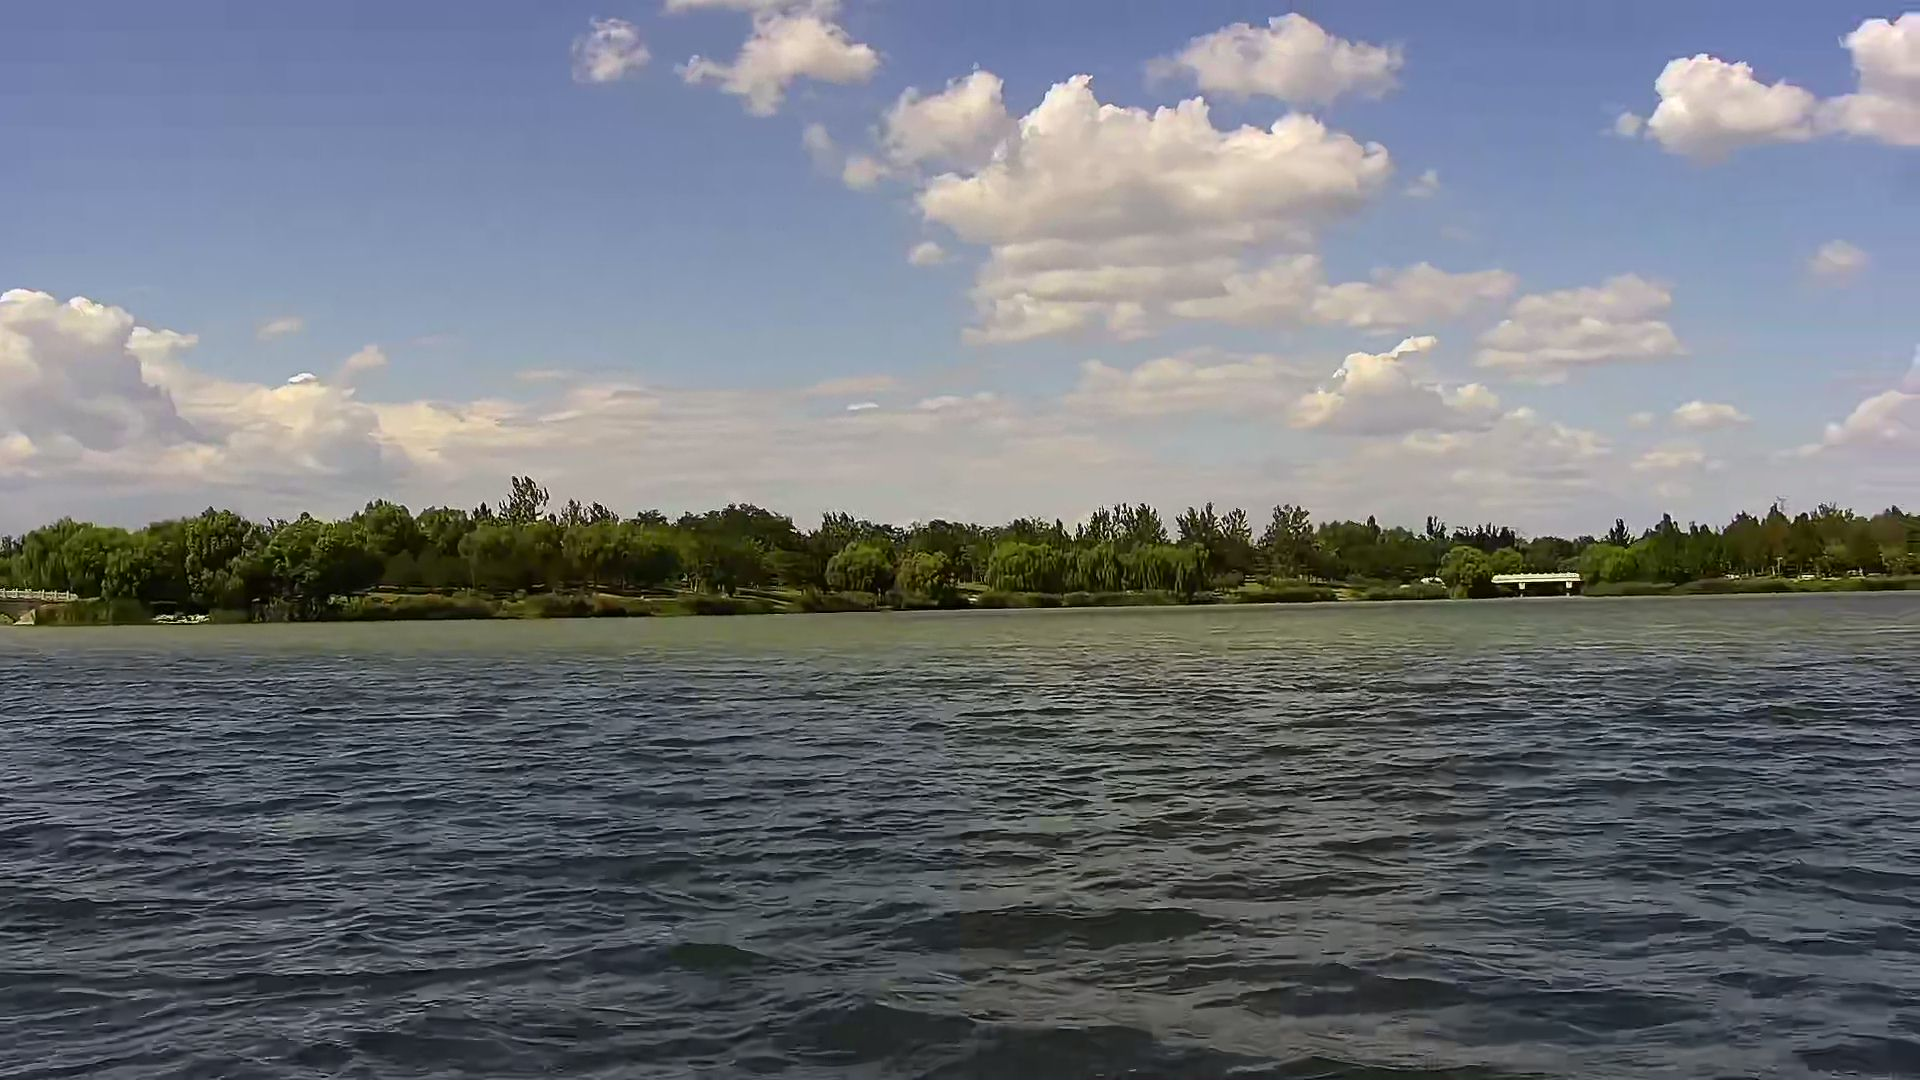bridge: (1, 588, 88, 630), (1491, 568, 1582, 601)
